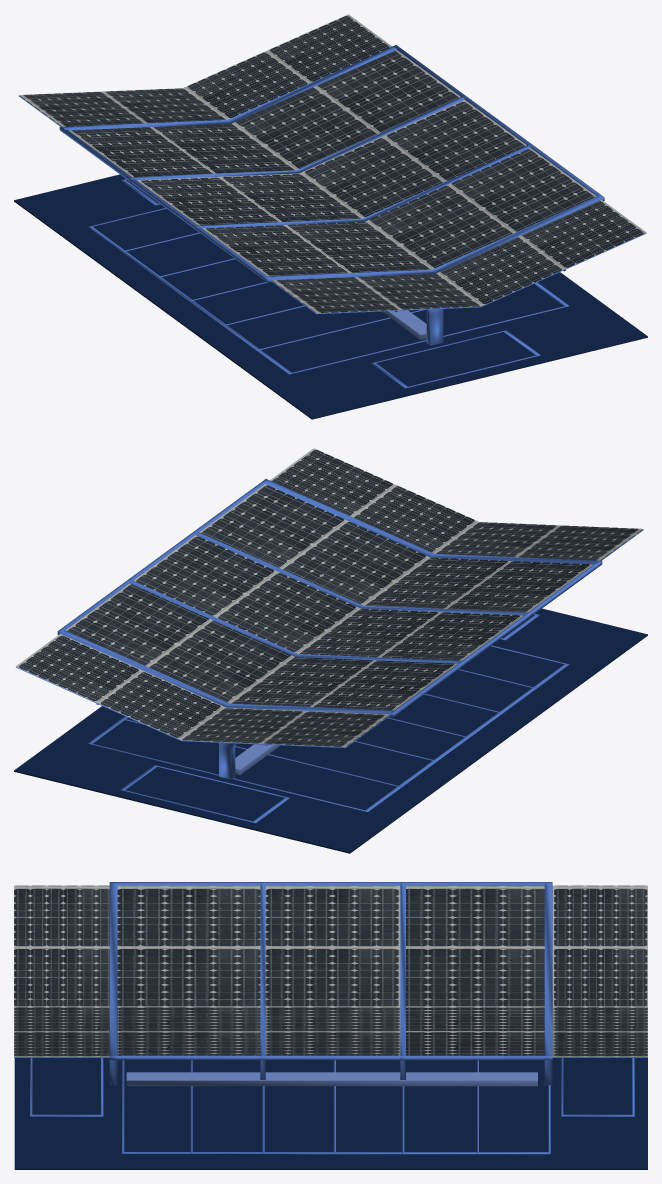
The model's file is gc_gfc.glb.
3 renders of one model, top to bottom at view 1: azimuth 30°, elevation 25°; view 2: azimuth 150°, elevation 25°; view 3: azimuth 270°, elevation 25°, orthographic. The views are drawn at different scales.
Parts seen in each view (by area): view 1: 光伏板, Plane.003, 支撑柱, 车位线, 车位线.002, Obj3d66_4616838_8_509, 光伏板.001; view 2: 光伏板, Plane.003, 支撑柱, 车位线, 车位线.001, Obj3d66_4616838_8_509, 光伏板.001; view 3: 光伏板, Plane.003, 支撑柱, Obj3d66_4616838_8_509, 车位线, 车位线.001, 车位线.002.
Part boxes in pixels (x1,y1,x2,y2): 光伏板: (18,14,646,313); Plane.003: (14,174,647,419); 支撑柱: (59,45,604,345); 车位线: (88,208,569,374); 车位线.002: (371,330,540,388); Obj3d66_4616838_8_509: (382,310,426,340); 光伏板.001: (18,96,646,314); 光伏板: (16,448,643,747); Plane.003: (14,608,647,853); 支撑柱: (57,479,602,779); 车位线: (87,645,569,811); 车位线.001: (120,765,289,823); Obj3d66_4616838_8_509: (235,744,280,774); 光伏板.001: (16,529,643,747); 光伏板: (14,885,647,1056); Plane.003: (14,1058,647,1169); 支撑柱: (109,882,552,1085); Obj3d66_4616838_8_509: (126,1072,537,1086); 车位线: (122,1060,550,1154); 车位线.001: (561,1058,634,1116); 车位线.002: (30,1058,103,1116).
Size of the model in its own units: 5.61 by 1.82 by 8.59.
Materials: 5 (1 with a texture image).
